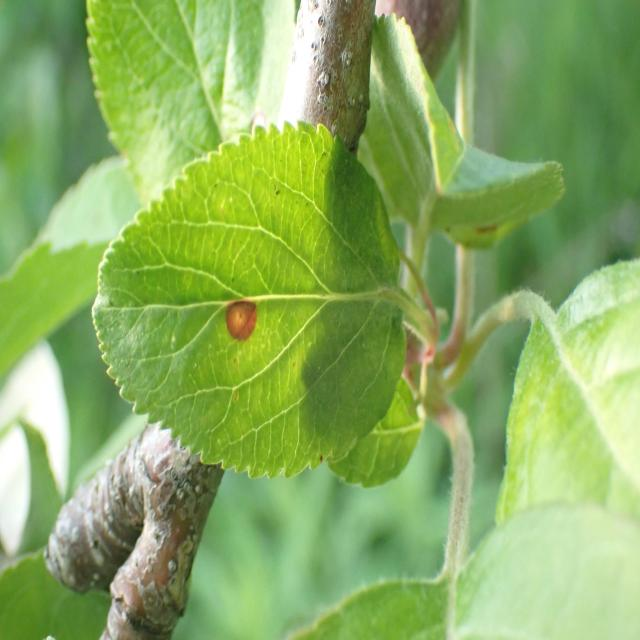Black Rot: (209, 262, 266, 358)
